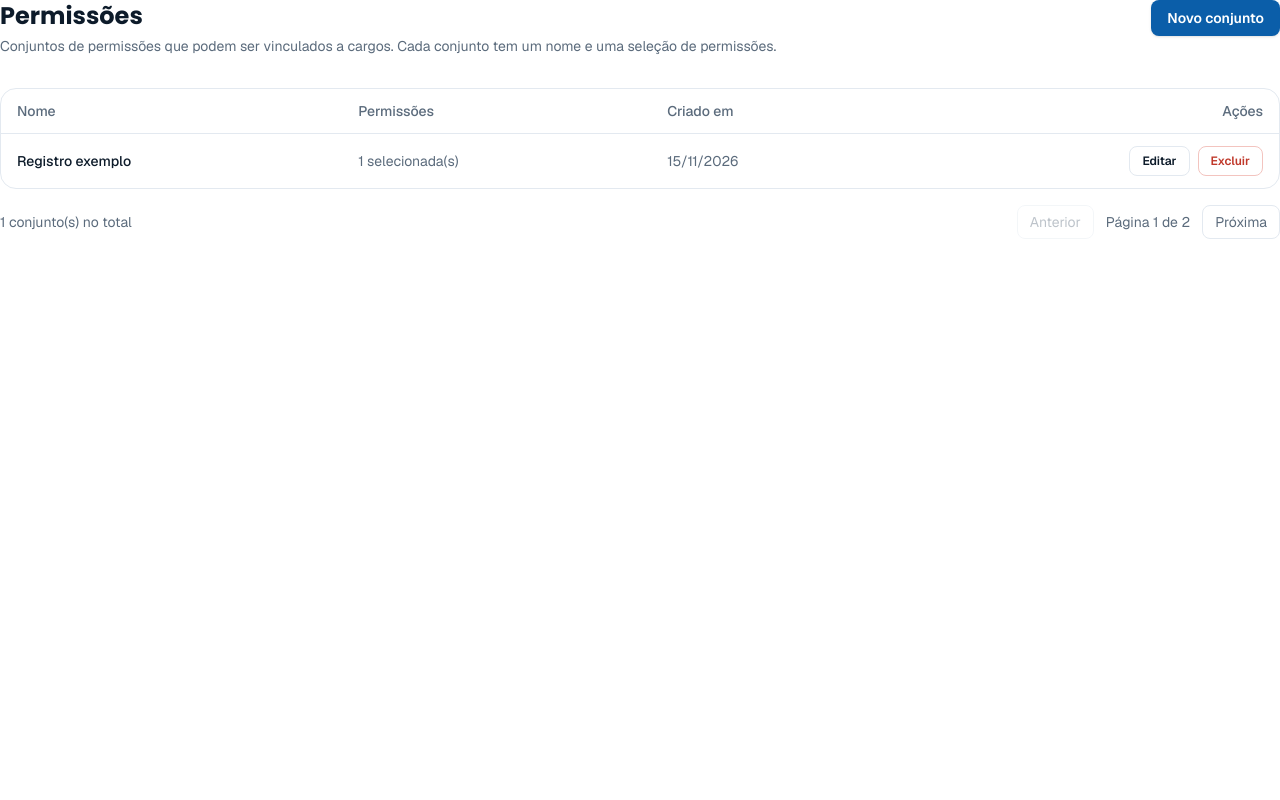
permissions request lifecycle › clears an action error when paginating in either direction
Check: the text "Registro exemplo" is shown, box [1,134,342,188]
Click the button "Excluir" at [1230, 161], box [1198,146,1263,176]
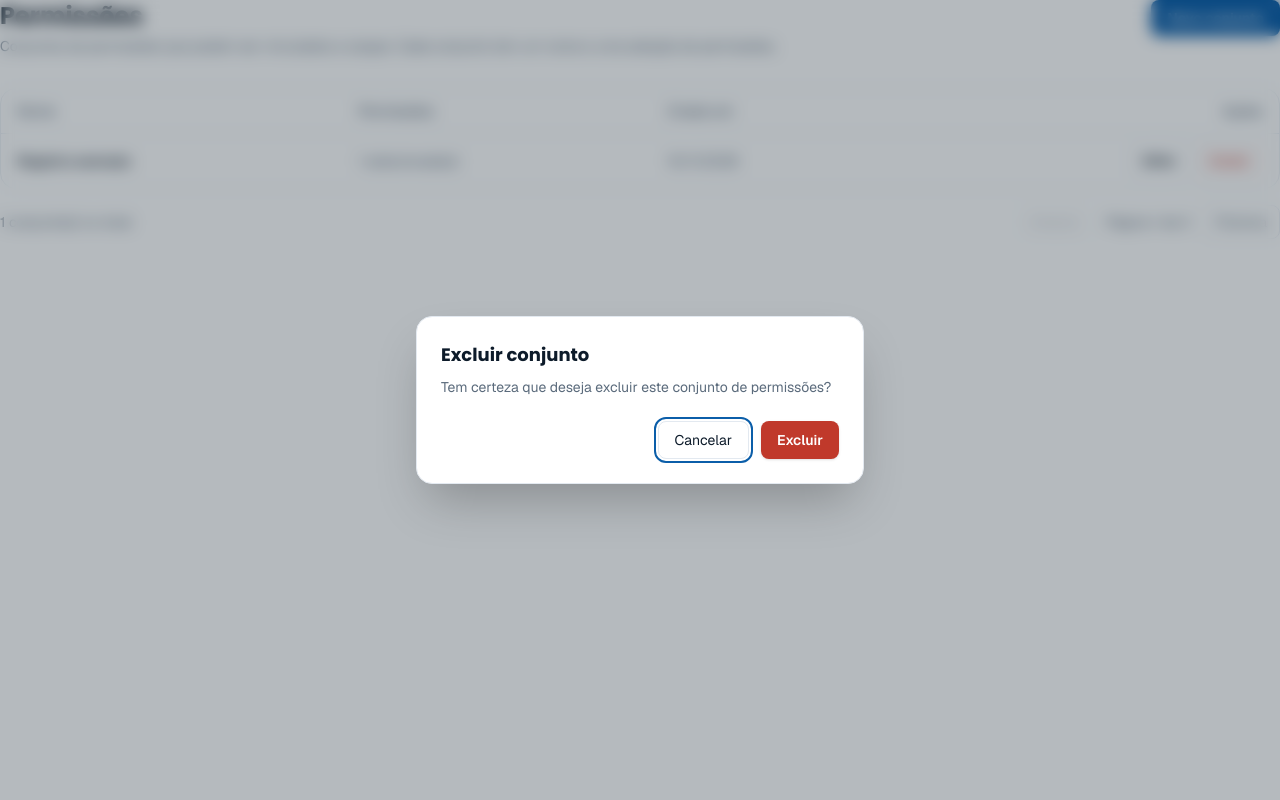
Click the button "Excluir" at [800, 440], box [761,421,839,459]
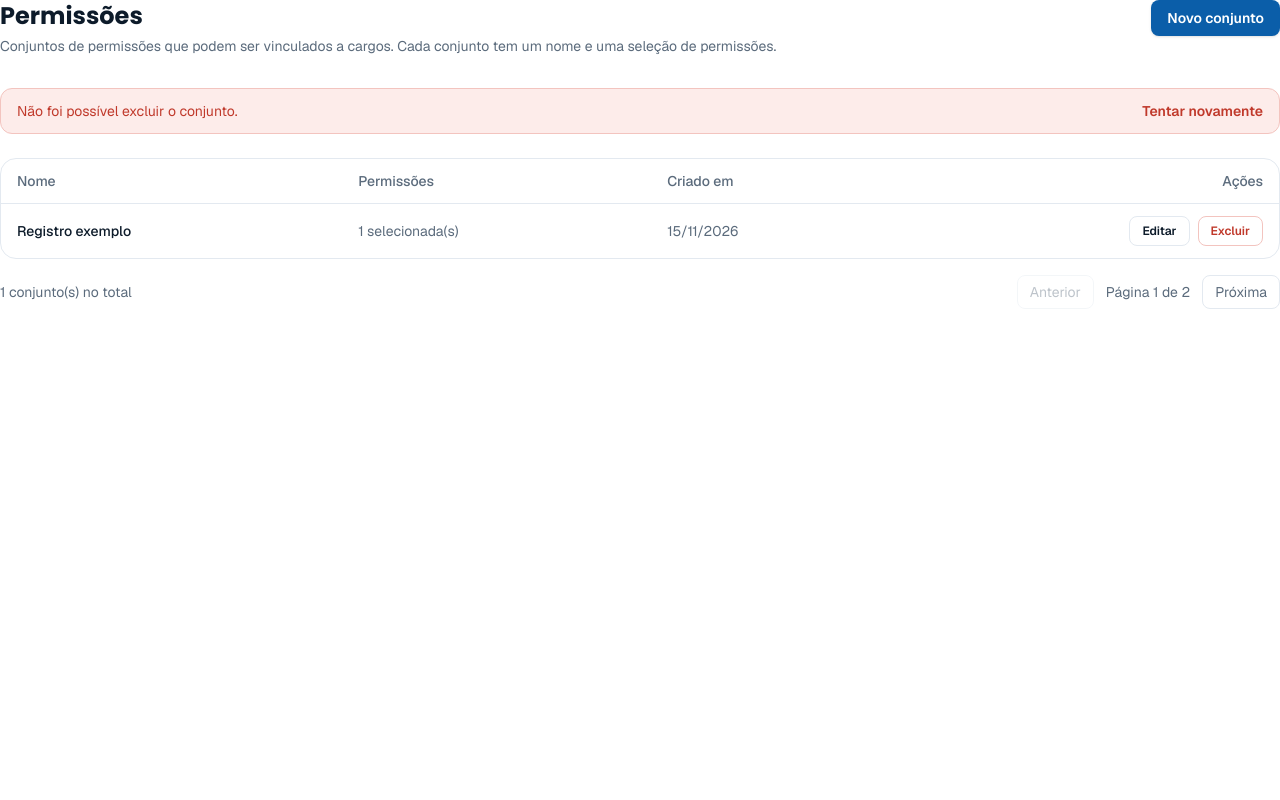
Check: the text "Não foi possível excluir o conjunto." is shown, box [17,101,238,121]
Click the button "Próxima" at [1241, 292], box [1202,275,1279,309]
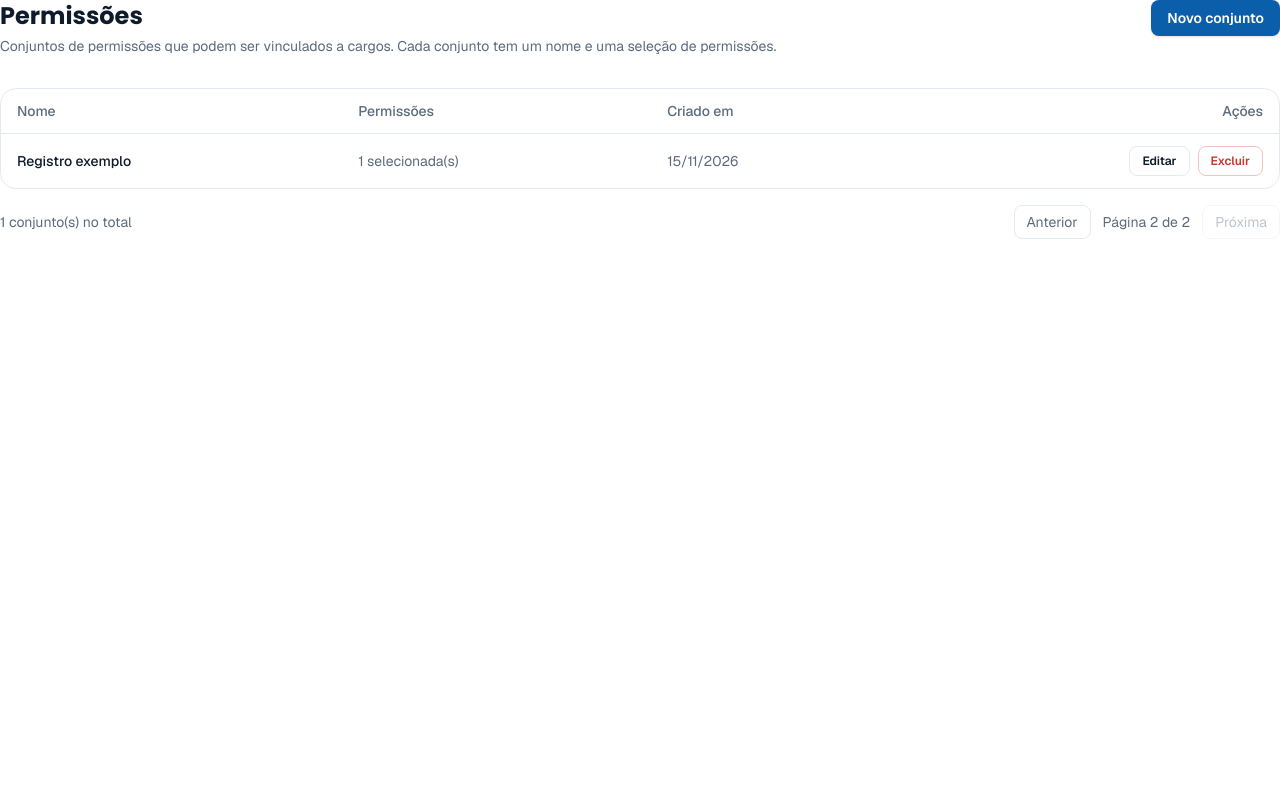
Check: the text "Registro exemplo" is shown, box [1,134,342,188]
Check: the text "Não foi possível excluir o conjunto." is gone
Click the button "Excluir" at [1230, 161], box [1198,146,1263,176]
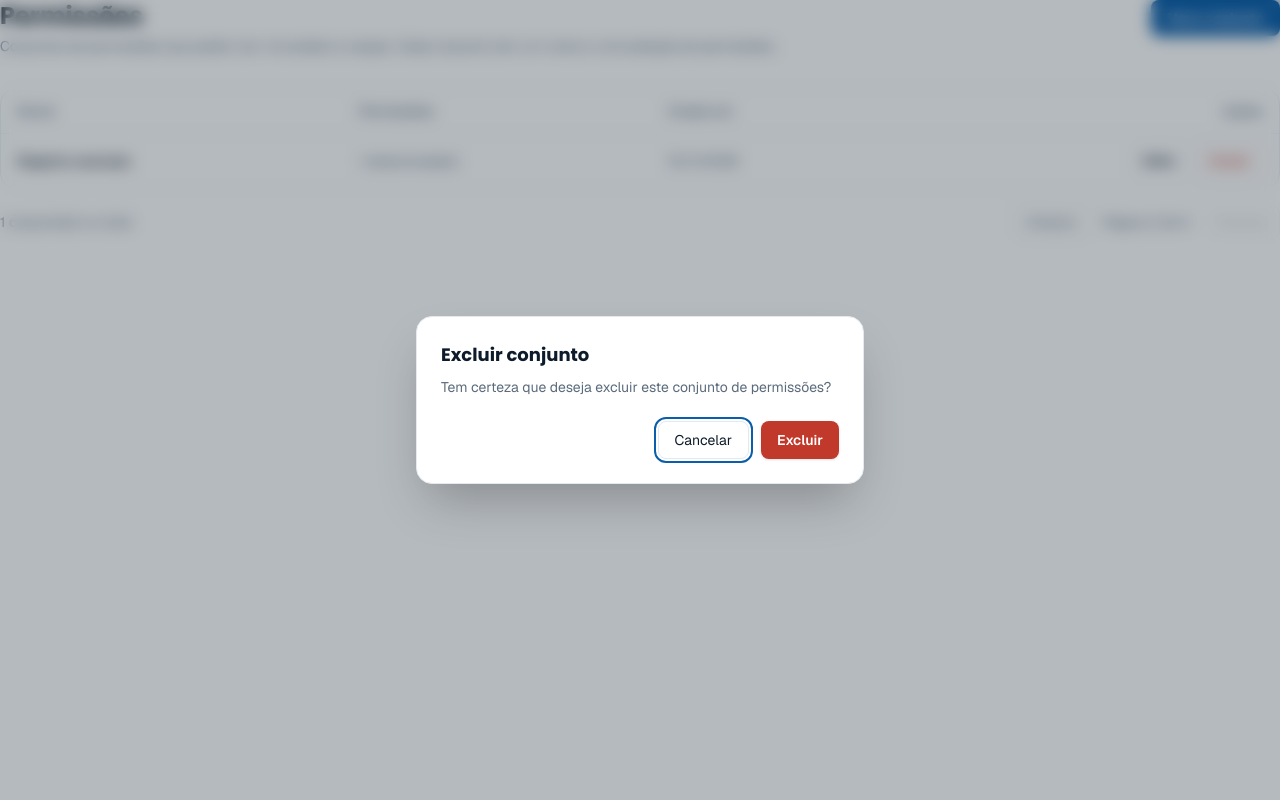
Click the button "Excluir" at [800, 440], box [761,421,839,459]
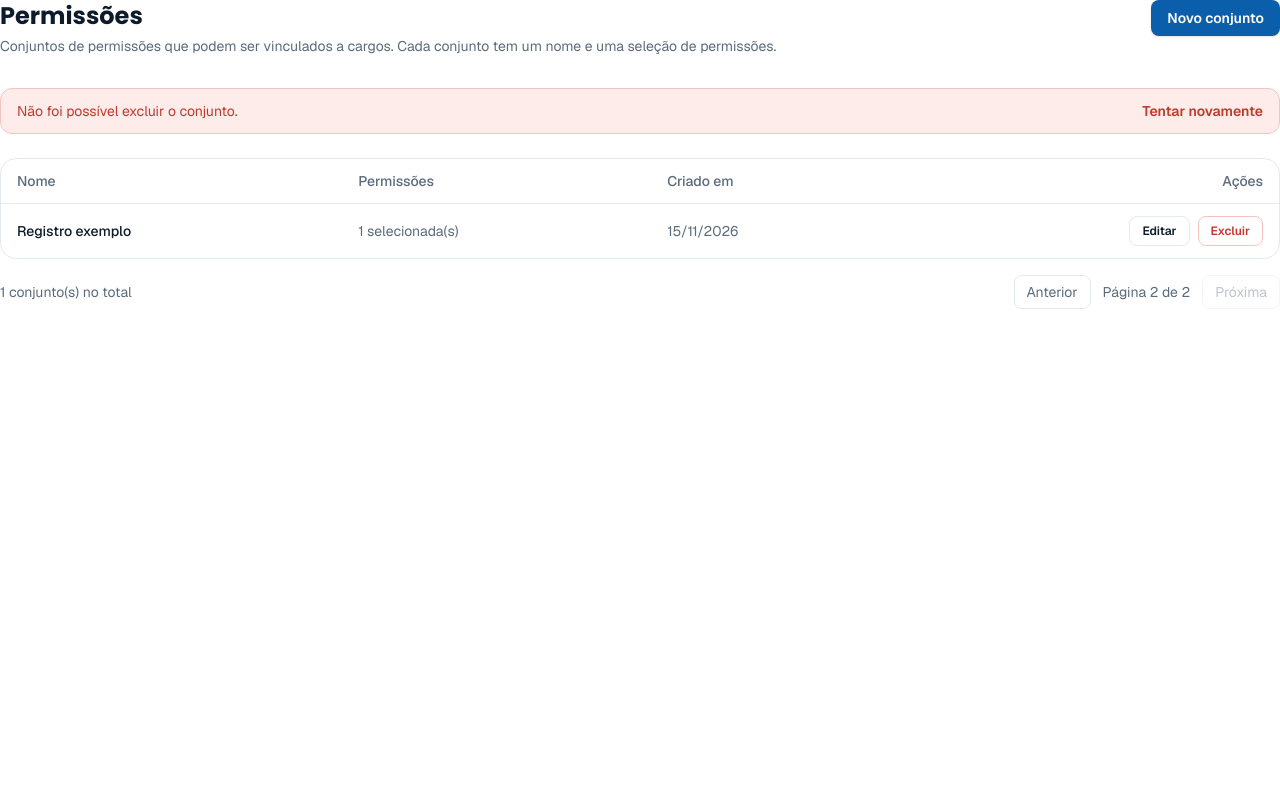
Check: the text "Não foi possível excluir o conjunto." is shown, box [17,101,238,121]
Click the button "Anterior" at [1052, 292], box [1014,275,1090,309]
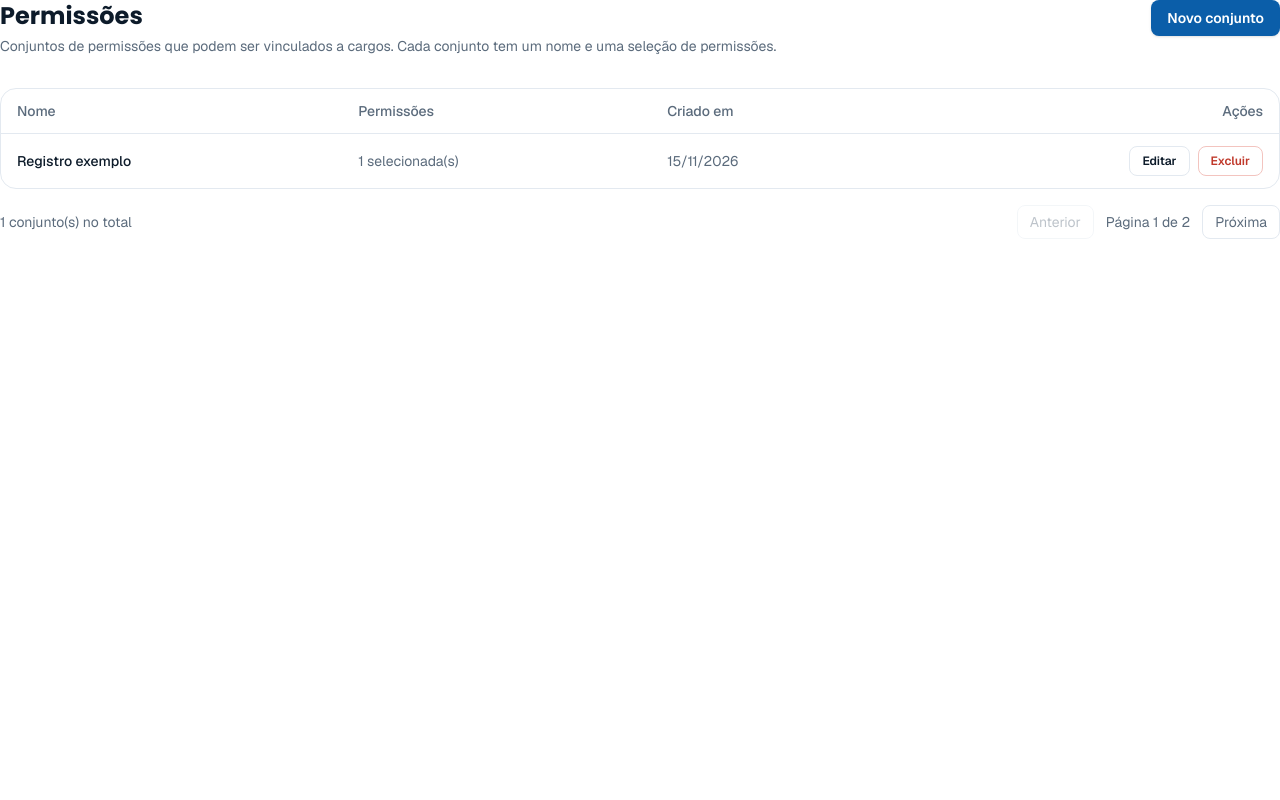
Check: the text "Registro exemplo" is shown, box [1,134,342,188]
Check: the text "Não foi possível excluir o conjunto." is gone
